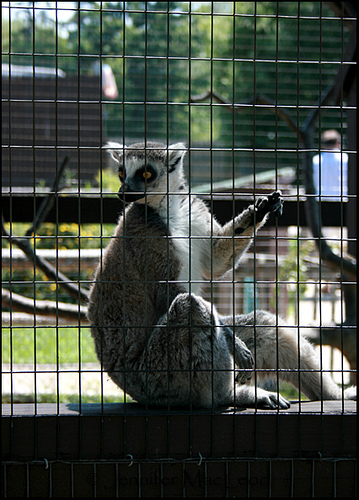cat: (86, 137, 356, 413)
